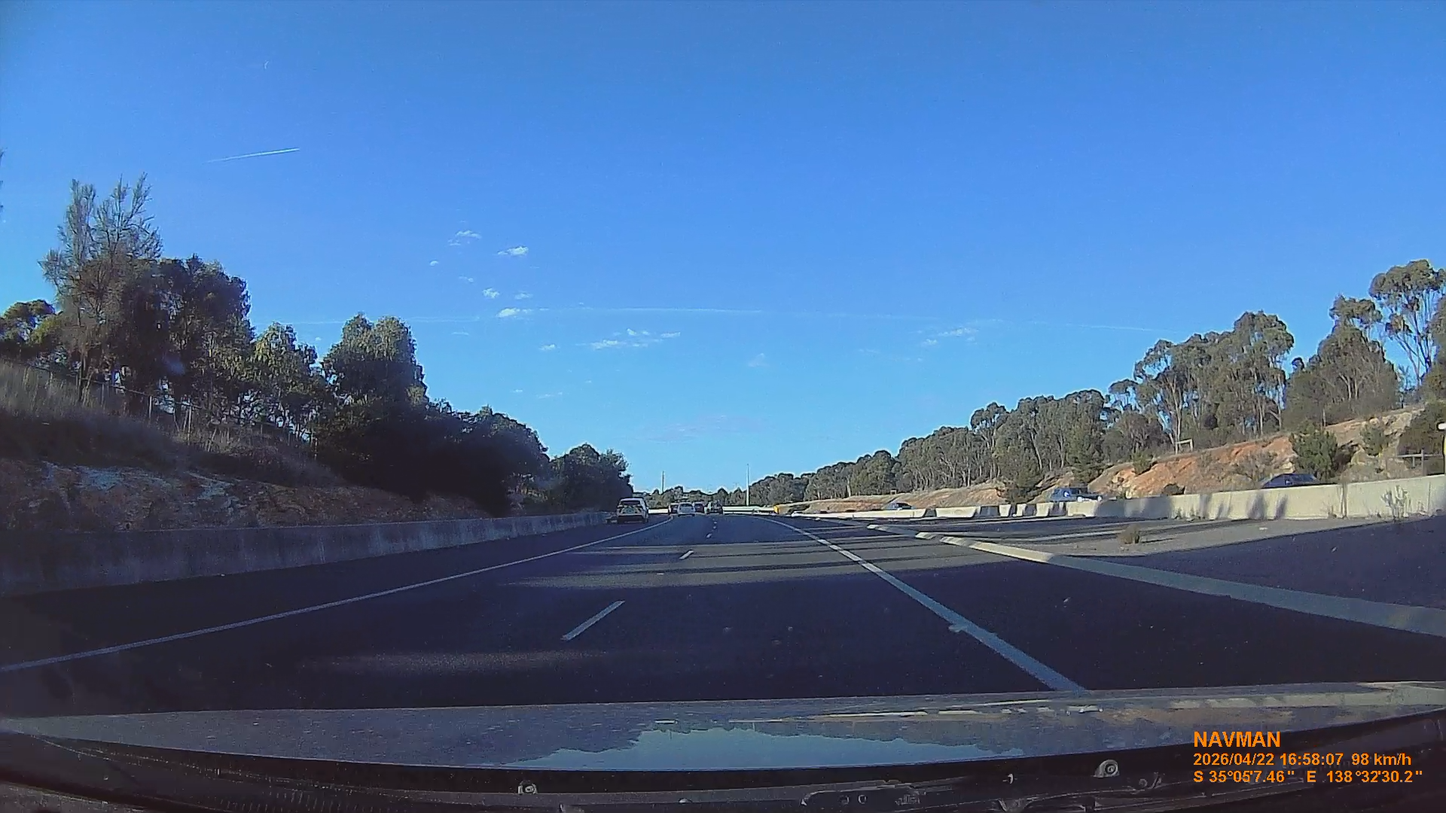road barriers: (0, 511, 603, 595)
